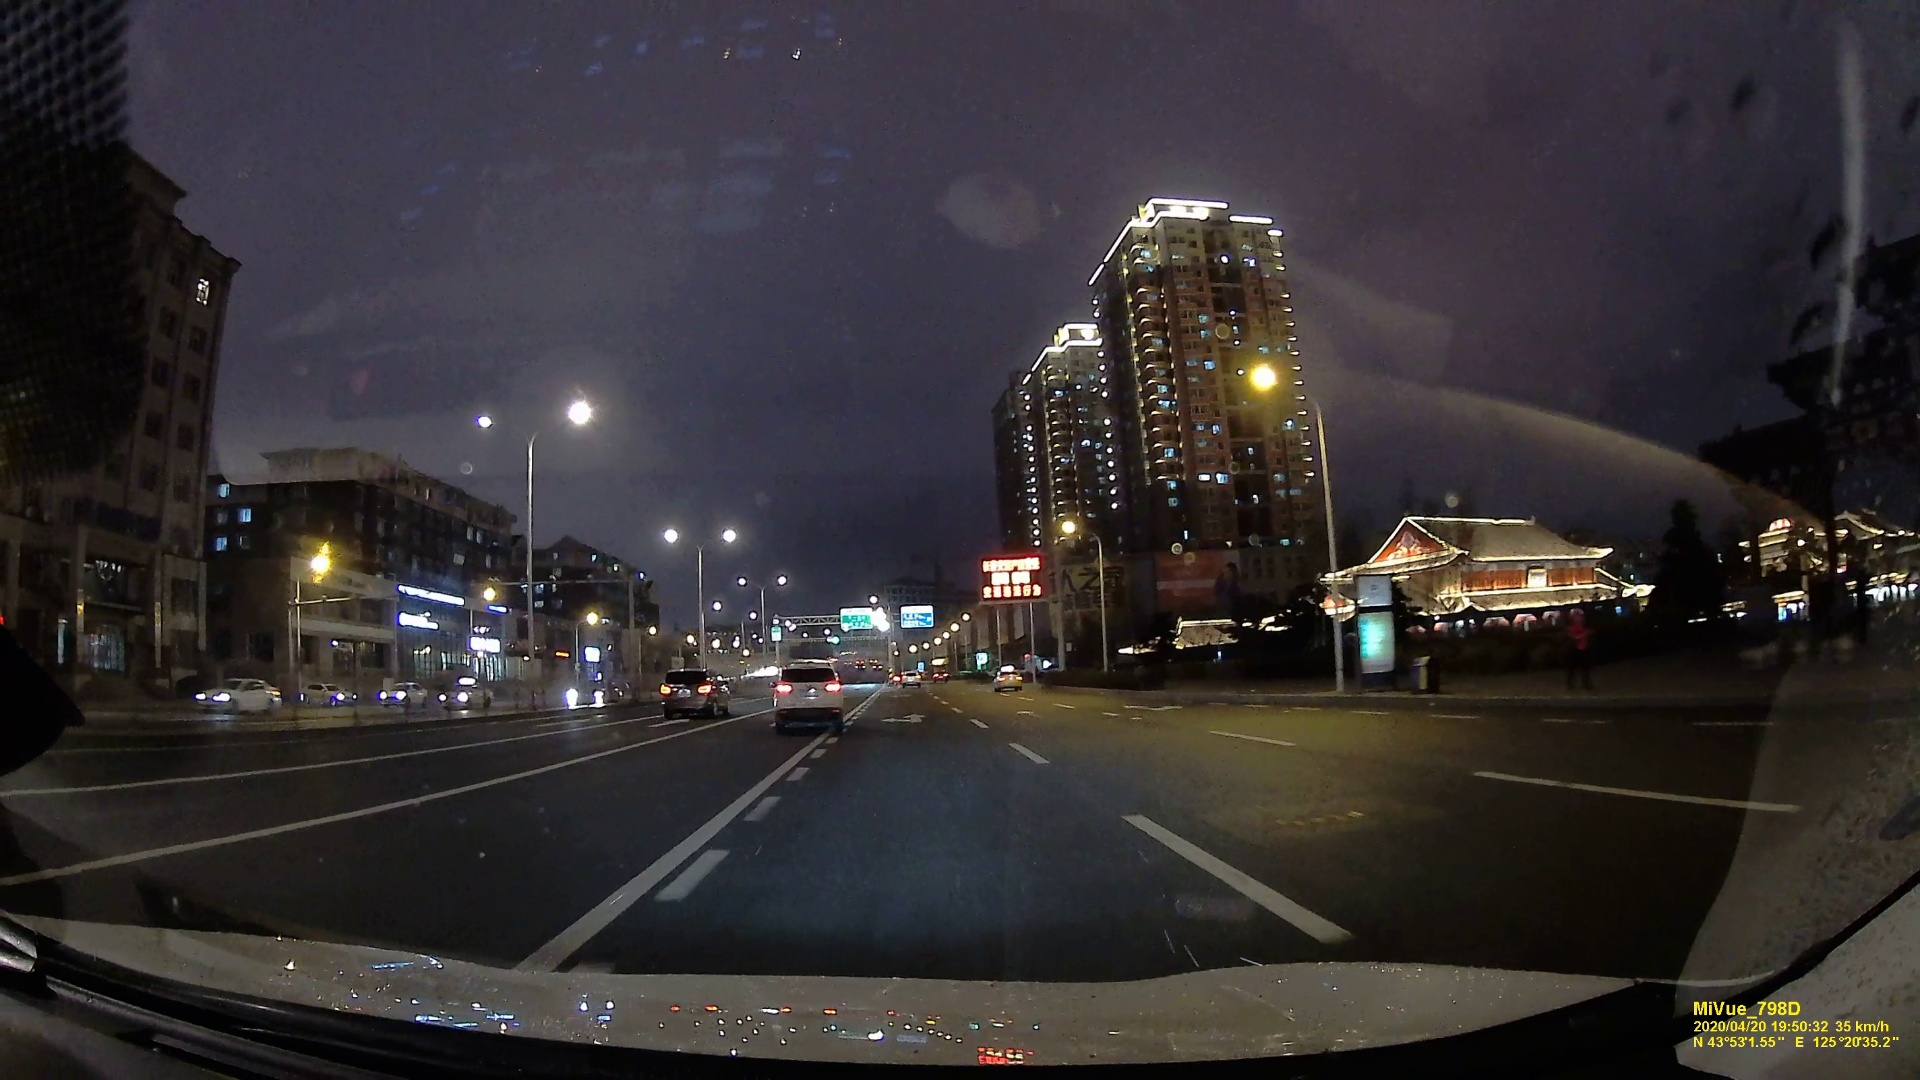traffic_sign: (899, 603, 934, 626), (840, 607, 872, 630)
vehicle: (771, 661, 844, 729), (198, 674, 284, 713), (657, 667, 727, 715), (436, 679, 495, 711), (377, 684, 429, 708), (994, 669, 1021, 688), (901, 671, 916, 684)
